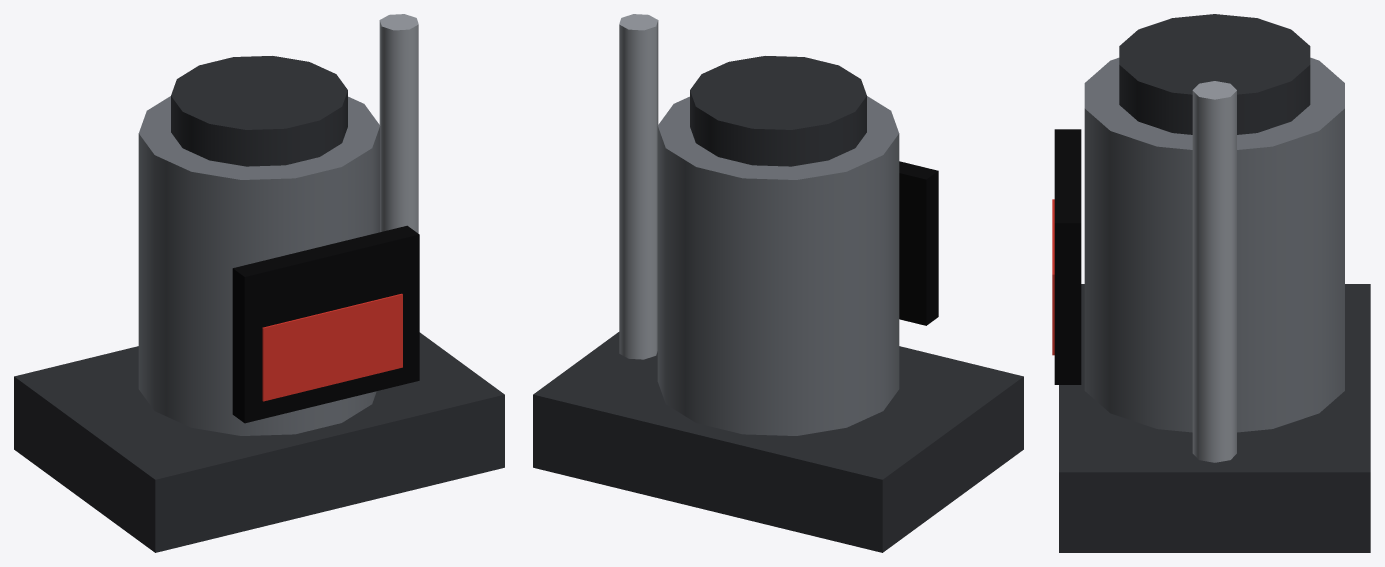
Rendered from tech_generator.glb.
The picture shows the model from 3 angles, left to right: view 1: azimuth 30°, elevation 25°; view 2: azimuth 150°, elevation 25°; view 3: azimuth 270°, elevation 25°; orthographic projection. The views are drawn at different scales.
Visible parts, largest first — view 1: sw5e_int_tech_generator; view 2: sw5e_int_tech_generator; view 3: sw5e_int_tech_generator.
Boxes of the visible parts, x1,y1,x2,y2 form: sw5e_int_tech_generator: (14,14,504,552); sw5e_int_tech_generator: (533,14,1023,552); sw5e_int_tech_generator: (1052,14,1370,552).
Size of the model in its own units: 1 by 1.1 by 0.715.
